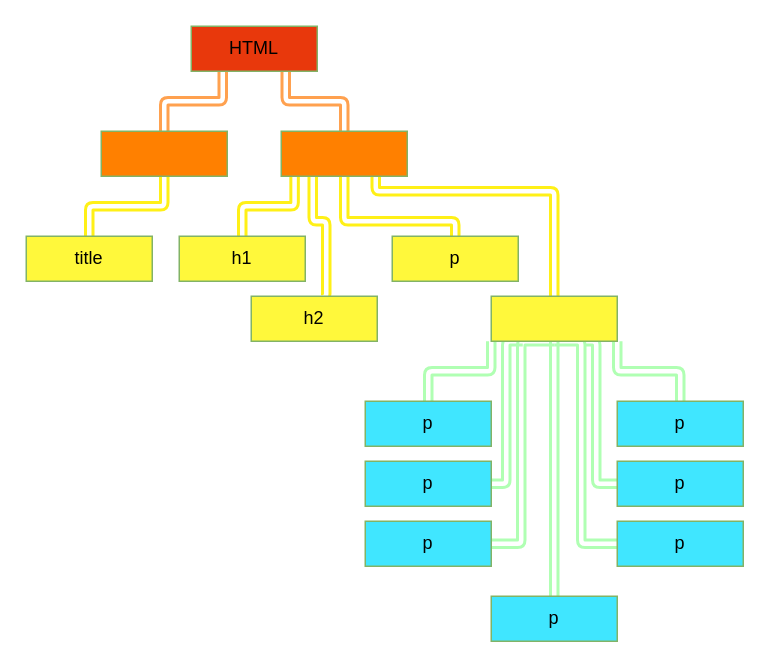
This 770x668 diagram has some shape labels left out. The shapes that lost their labels are listed below. From the top down, each one's centre as x and y in pixels, then its label:
At point (163, 153): "head".
At point (343, 153): "body".
At point (553, 318): "div".
